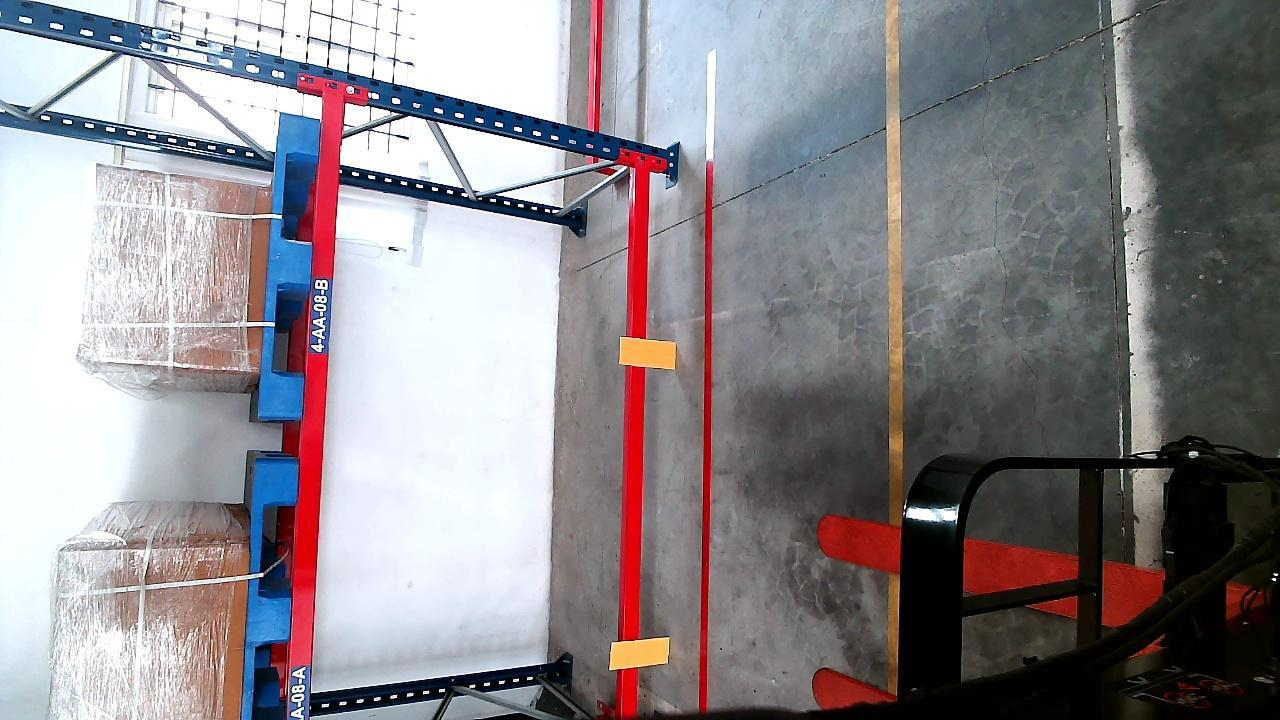red_line: (693, 155, 719, 707)
yellow_line: (883, 0, 910, 509)
